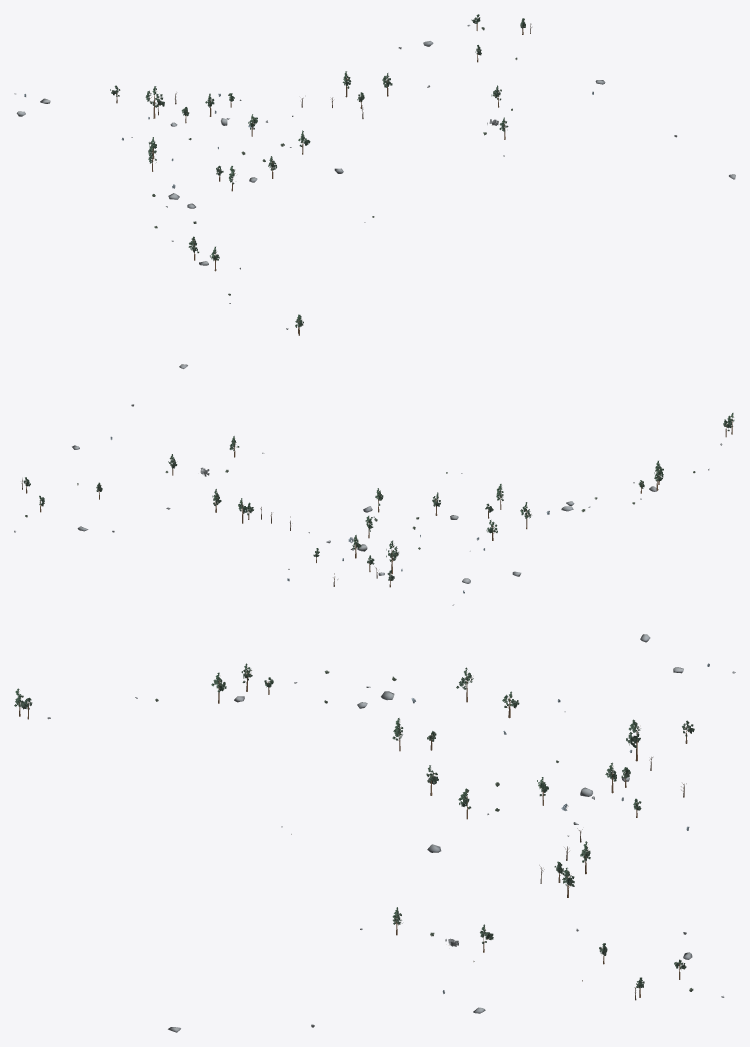
The model's file is frost_land_scatter_c22_09.glb.
3 views of the same model, one above another, from view 1: azimuth 30°, elevation 25°; view 2: azimuth 150°, elevation 25°; view 3: azimuth 270°, elevation 25° (orthographic). The views are drawn at different scales.
Visible parts, largest first — view 1: frost_land_scatter_c22_09; view 2: frost_land_scatter_c22_09; view 3: frost_land_scatter_c22_09.
Boxes of the visible parts, x1=… form: frost_land_scatter_c22_09: x1=14, y1=14, x2=735, y2=335; frost_land_scatter_c22_09: x1=14, y1=364, x2=734, y2=605; frost_land_scatter_c22_09: x1=14, y1=634, x2=735, y2=1032.
Bounding box in the file's own units: 258 × 28.87 × 241.
